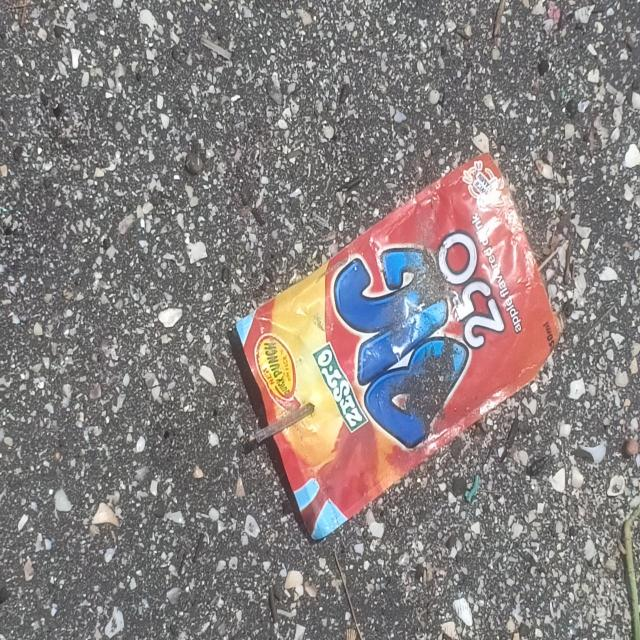plastic_waste: (235, 152, 563, 544)
